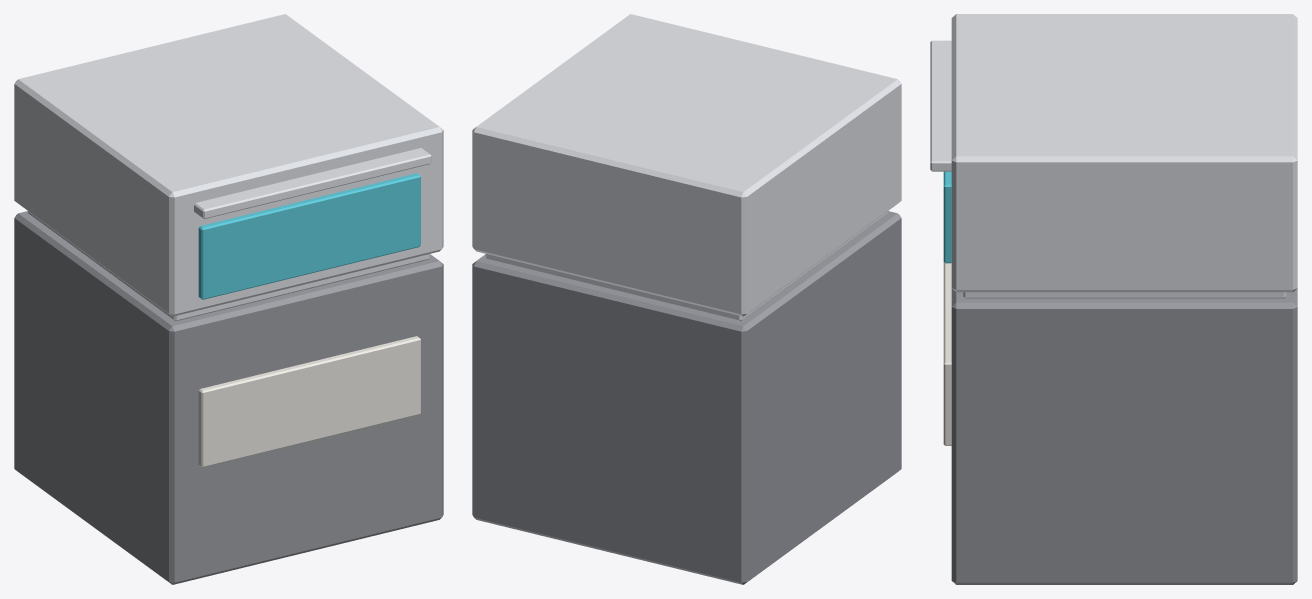
File: nightclub-and-dj-booth-glass-washer-d7ae8ae5.glb
3 views of the same model, side by side, from view 1: azimuth 30°, elevation 25°; view 2: azimuth 150°, elevation 25°; view 3: azimuth 270°, elevation 25° (orthographic). The views are drawn at different scales.
Parts seen in each view (by area): view 1: glass-washer, hood, hood/panel; view 2: glass-washer, hood; view 3: glass-washer, hood, hood/panel.
Boxes of the visible parts, x1,y1,x2,y2 form: glass-washer: (14, 211, 443, 584); hood: (14, 14, 443, 316); hood/panel: (198, 173, 420, 299); glass-washer: (472, 211, 901, 584); hood: (472, 14, 901, 316); glass-washer: (943, 262, 1297, 584); hood: (930, 14, 1297, 292); hood/panel: (943, 171, 951, 263).
Size of the model in its own units: 0.6 by 0.82 by 0.637.
